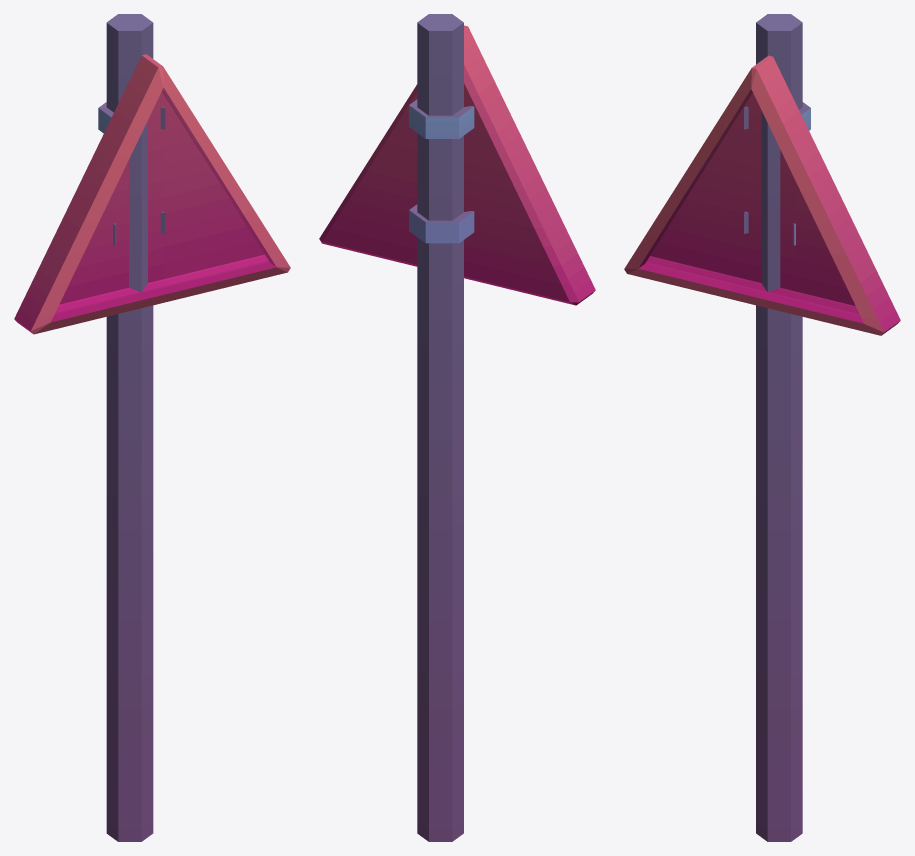
The model's file is sign001.obj.
The picture shows the model from 3 angles, left to right: view 1: azimuth 30°, elevation 25°; view 2: azimuth 150°, elevation 25°; view 3: azimuth 330°, elevation 25°; orthographic projection.
Parts seen in each view (by area): view 1: sign.001; view 2: sign.001; view 3: sign.001.
Part boxes in pixels (left/top/right/bottom): sign.001: left=14, top=14, right=290, bottom=841; sign.001: left=319, top=14, right=595, bottom=841; sign.001: left=624, top=14, right=900, bottom=841.
Size of the model in its own units: 3.99 by 11.87 by 1.21.
Materials: 1 (1 with a texture image).
